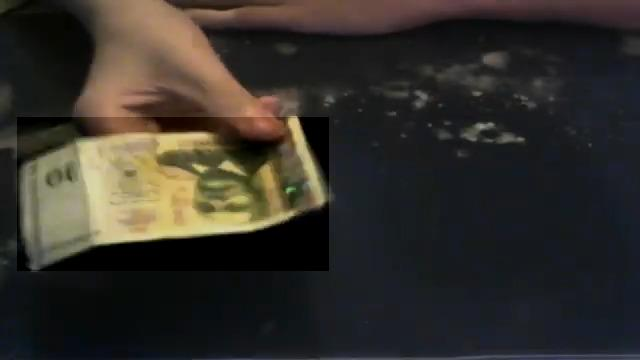10leva: (17, 117, 329, 271)
